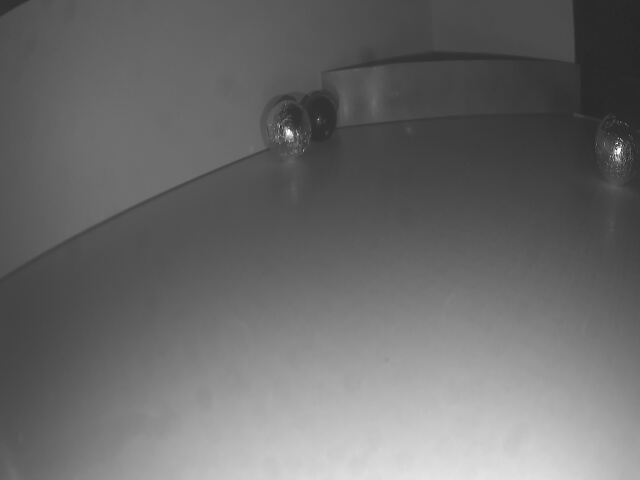Dead: (302, 92, 337, 142)
Green: (321, 61, 583, 128)
Live: (260, 101, 313, 163), (595, 114, 640, 185)
